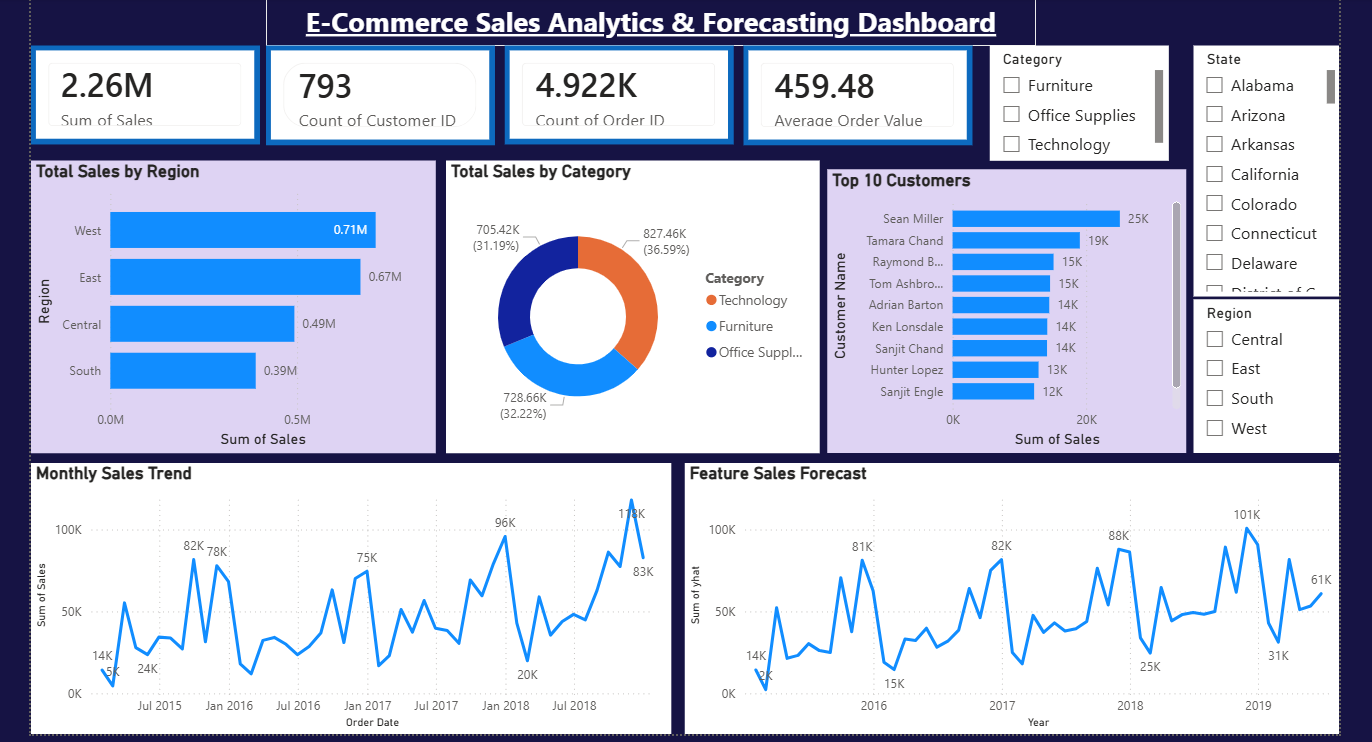

The page's visual inventory and layout, read from the dashboard file:
{"tool":"powerbi","page":{"name":"Page 1","canvas":[1280,720],"ordinal":0},"visuals":[{"type":"textbox","box":[229.9,0,753.3,46.5],"z":0},{"type":"cardVisual","fields":{"Data":["Count(sales.Customer ID)"]},"box":[229.9,46.5,223.8,97.8],"z":1000},{"type":"cardVisual","fields":{"Data":["Sum(sales.Sales)"]},"box":[0,46.5,223.8,96.6],"z":2000},{"type":"cardVisual","fields":{"Data":["Count(sales.Order ID)"]},"box":[463.5,46.5,223.8,96.6],"z":3000},{"type":"cardVisual","fields":{"Data":["monthly_sales.Average Order Value"]},"box":[697,46.5,223.8,97.8],"z":4000},{"type":"clusteredBarChart","title":"Total Sales by Region","fields":{"Category":["sales.Region"],"Y":["Sum(sales.Sales)"]},"box":[0,159,396.2,286.1],"z":5000},{"type":"donutChart","title":"Total Sales by Category","fields":{"Category":["sales.Category"],"Y":["Sum(sales.Sales)"]},"box":[406,159,365.6,286.1],"z":6000},{"type":"barChart","title":"Top 10 Customers","fields":{"Category":["sales.Customer Name"],"Y":["Sum(sales.Sales)"]},"box":[778.9,167.5,351,277.6],"z":7000},{"type":"lineChart","title":"Monthly Sales Trend","fields":{"Y":["Sum(monthly_sales.Sales)"],"Category":["monthly_sales.Order Date"]},"box":[0,454.9,626.1,265.4],"z":8000},{"type":"lineChart","title":"Feature Sales Forecast","fields":{"Y":["Sum(sales_forecast.yhat)"],"Category":["sales_forecast.ds.Variation.Date Hierarchy.Year","sales_forecast.ds.Variation.Date Hierarchy.Quarter","sales_forecast.ds.Variation.Date Hierarchy.Month","sales_forecast.ds.Variation.Date Hierarchy.Day"]},"box":[639.5,454.9,640.8,265.4],"z":9000},{"type":"slicer","fields":{"Values":["sales.Region"]},"box":[1137.2,294.7,143.1,150.4],"z":10000},{"type":"slicer","fields":{"Values":["sales.Category"]},"box":[937.9,46.5,174.9,112.5],"z":11000},{"type":"slicer","fields":{"Values":["sales.State"]},"box":[1137.2,46.5,143.1,245.8],"z":11002}]}

Visuals, with their boxes in screenshot pixels (x1, y1, x2, y2):
textbox: box=[263, 0, 1029, 44]
cardVisual - Count(sales.Customer ID): box=[263, 44, 490, 143]
cardVisual - Sum(sales.Sales): box=[29, 44, 256, 142]
cardVisual - Count(sales.Order ID): box=[500, 44, 728, 142]
cardVisual - monthly_sales.Average Order Value: box=[738, 44, 966, 143]
"Total Sales by Region" clusteredBarChart: box=[29, 158, 432, 450]
"Total Sales by Category" donutChart: box=[442, 158, 814, 450]
"Top 10 Customers" barChart: box=[821, 167, 1179, 450]
"Monthly Sales Trend" lineChart: box=[29, 459, 666, 730]
"Feature Sales Forecast" lineChart: box=[680, 459, 1332, 730]
slicer - sales.Region: box=[1186, 296, 1332, 450]
slicer - sales.Category: box=[983, 44, 1161, 158]
slicer - sales.State: box=[1186, 44, 1332, 294]
